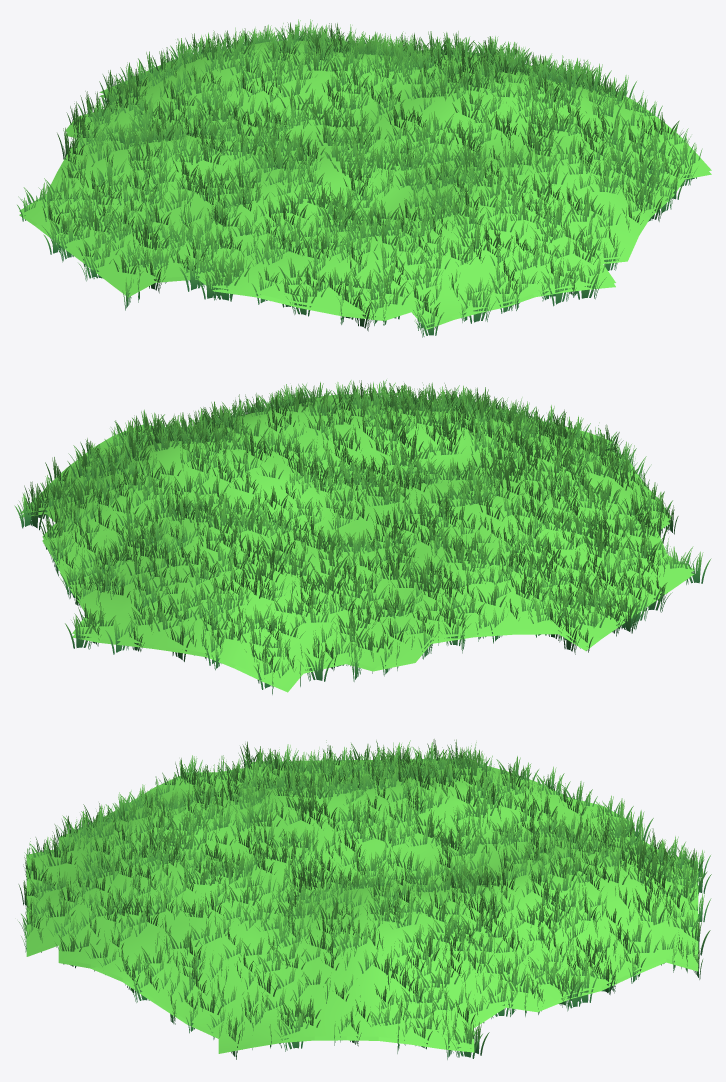
File: sGrass_02.fbx
3 renders of one model, top to bottom at view 1: azimuth 30°, elevation 25°; view 2: azimuth 150°, elevation 25°; view 3: azimuth 270°, elevation 25°, orthographic. The views are drawn at different scales.
Visible parts, largest first — view 1: Grass; view 2: Grass; view 3: Grass.
Boxes of the visible parts, x1,y1,x2,y2 form: Grass: [17, 19, 711, 337]; Grass: [14, 379, 711, 694]; Grass: [18, 739, 711, 1059].
Size of the model in its own units: 2271 by 352 by 2240.
